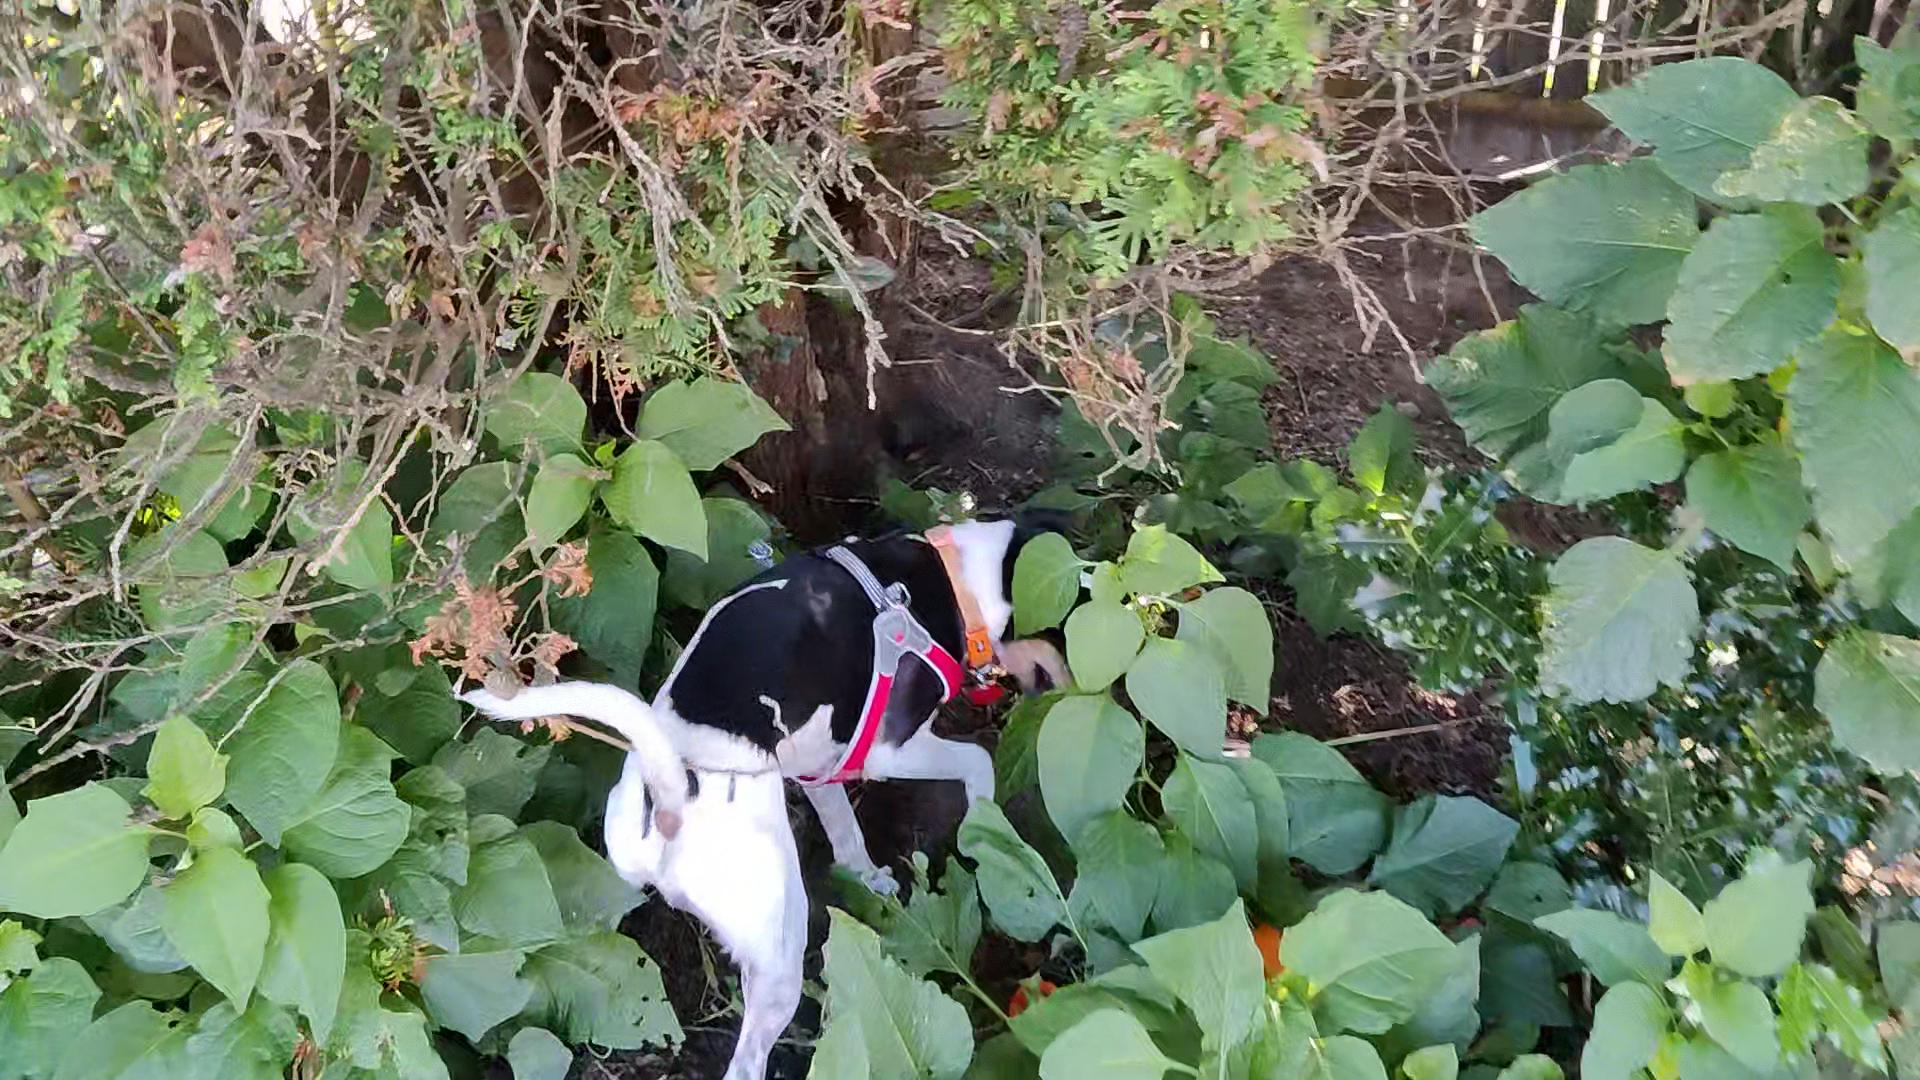Dog: (423, 506, 1127, 1079)
